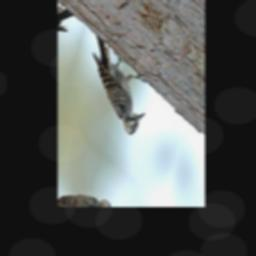Woodpecker: (77, 27, 155, 143)
